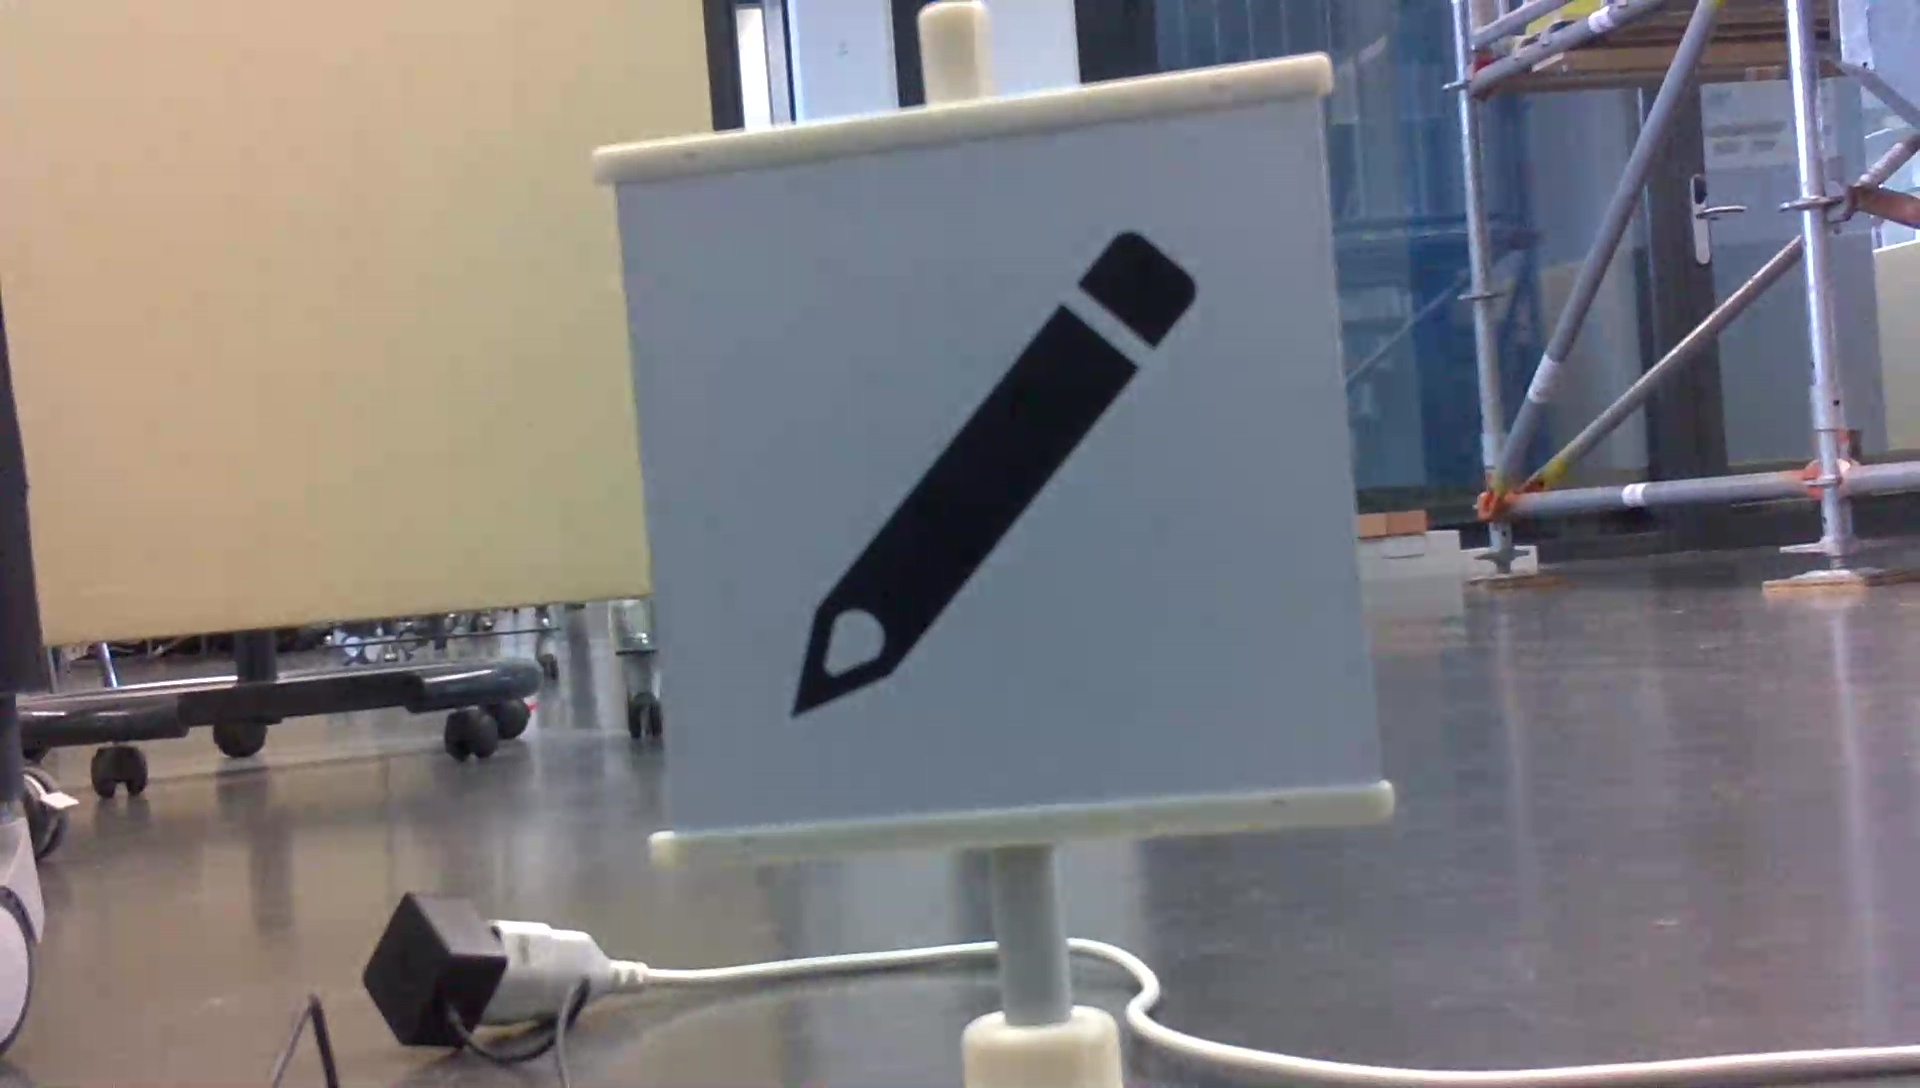pencil: (767, 214, 1211, 727)
